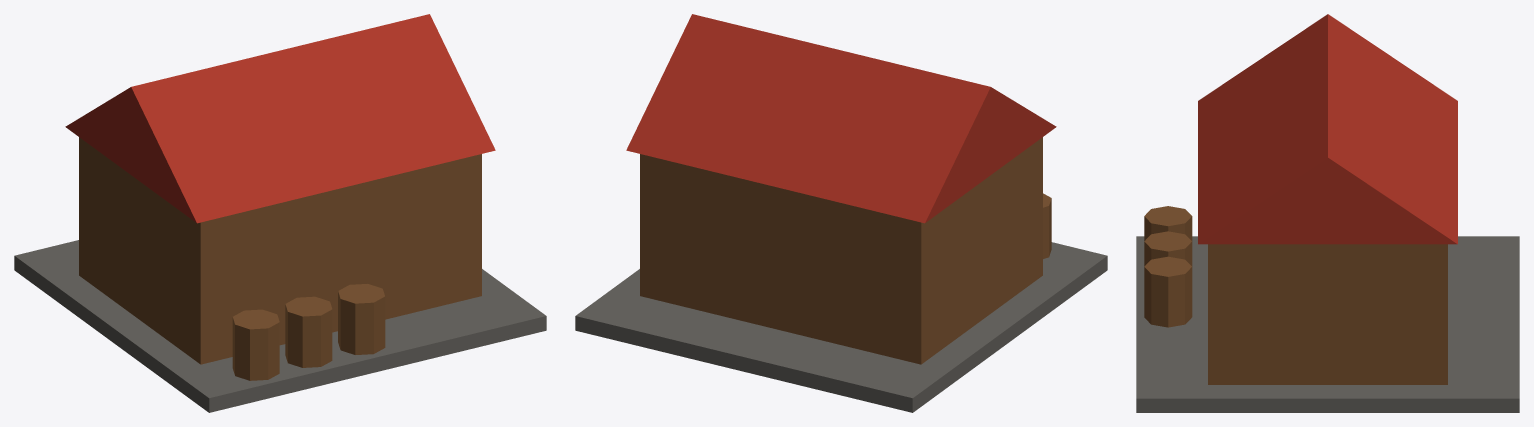
File: storehouse.glb
The picture shows the model from 3 angles, left to right: view 1: azimuth 30°, elevation 25°; view 2: azimuth 150°, elevation 25°; view 3: azimuth 270°, elevation 25°; orthographic projection.
Visible parts, largest first — view 1: storehouse; view 2: storehouse; view 3: storehouse.
Boxes of the visible parts, box(x1,y1,x2,y2) form: storehouse: box(14, 14, 546, 412); storehouse: box(575, 14, 1107, 412); storehouse: box(1136, 14, 1519, 412).
Size of the model in its own units: 1.92 by 1.36 by 1.92.
